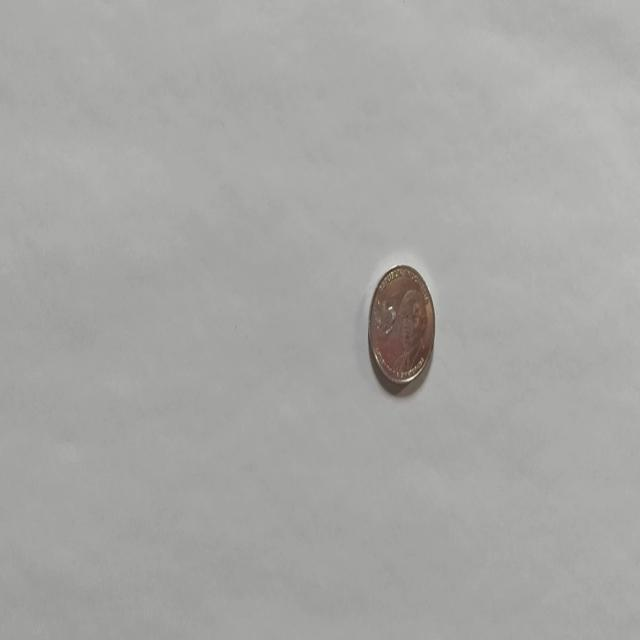lima ratus rupiah: (367, 262, 436, 387)
